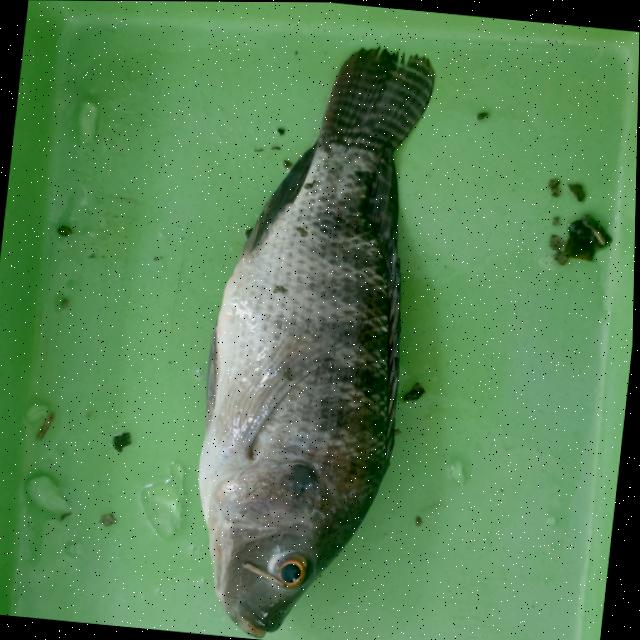Fresh: (186, 45, 464, 524), (240, 526, 317, 610)
